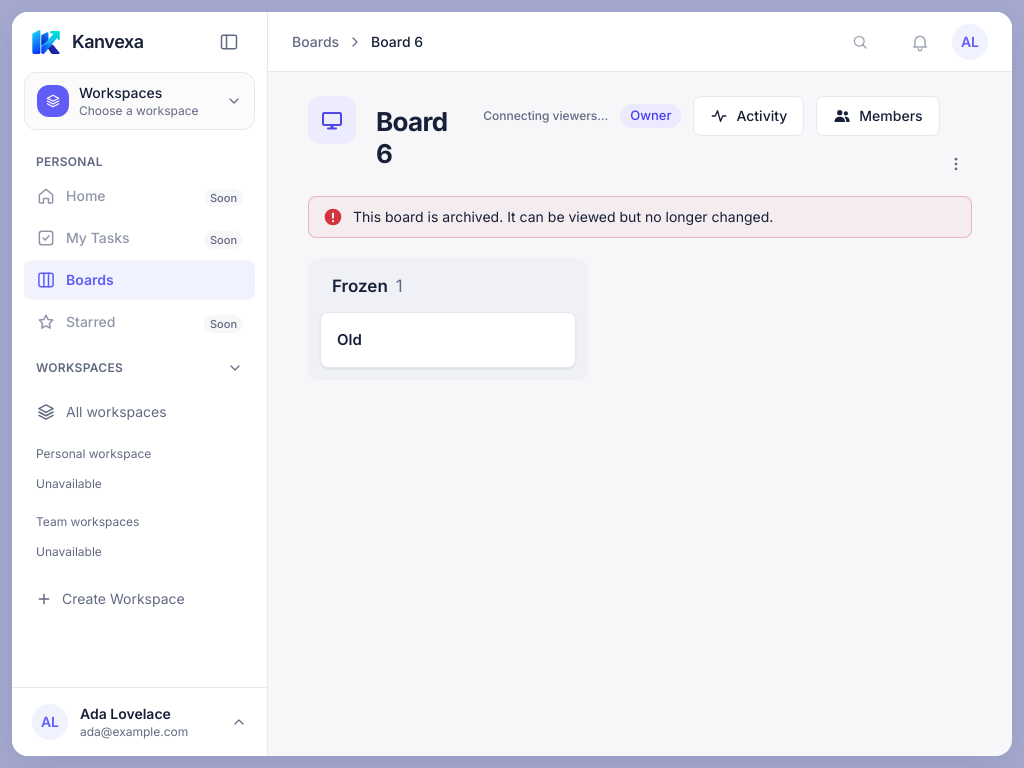
Test: adding cards › offers no card changes on an archived board
Step 1. Click the button "Old" → click(349, 340), box [337, 328, 362, 351]
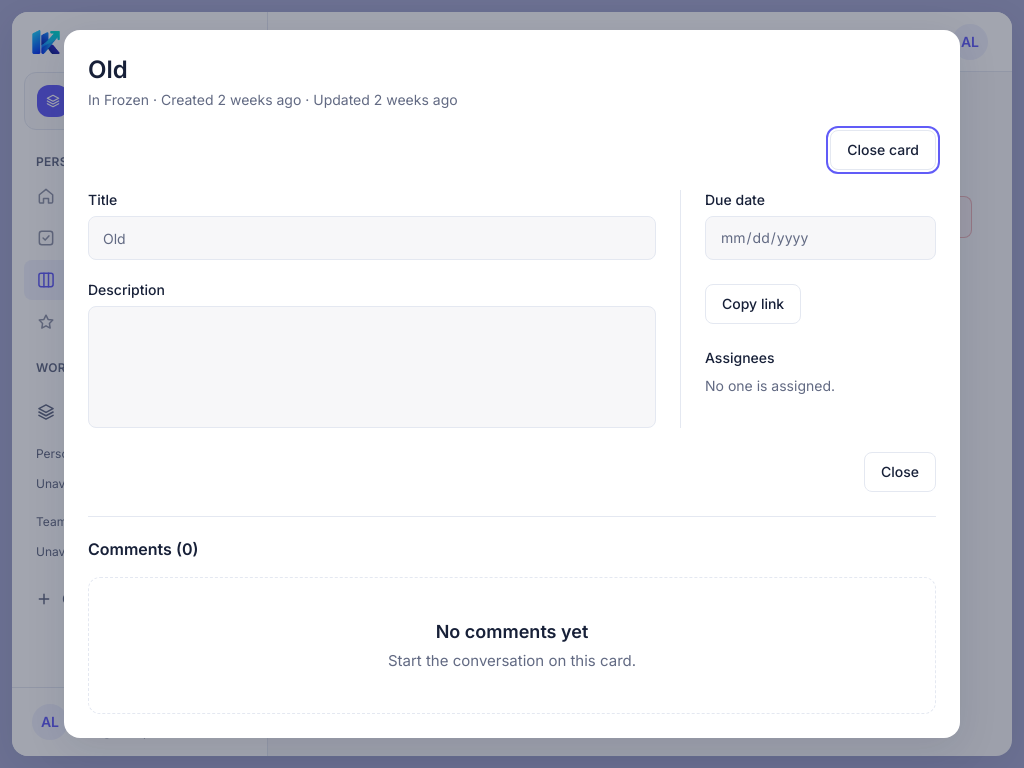
Expected: the field labelled "Title" is disabled, [88, 216, 656, 260]
Expected: the text box labelled "Description" is disabled, [88, 306, 656, 428]
Expected: the date field labelled "Due date" is disabled, [705, 216, 936, 260]
